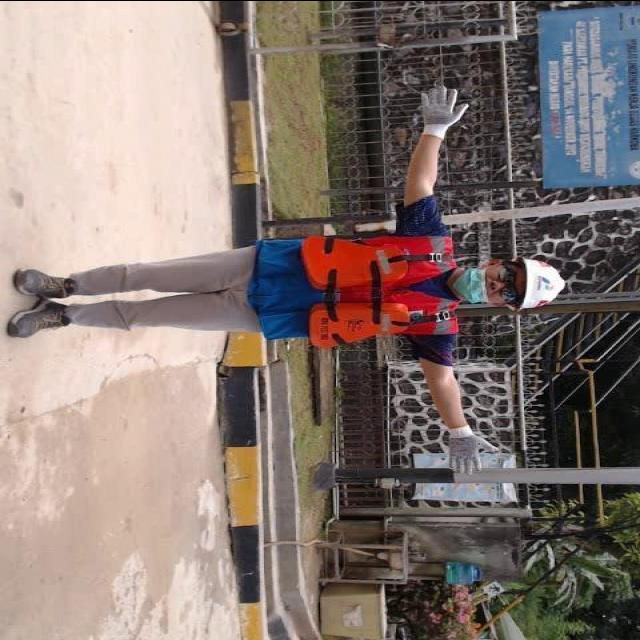helmet: (511, 250, 563, 315)
jacket: (296, 222, 463, 356)
